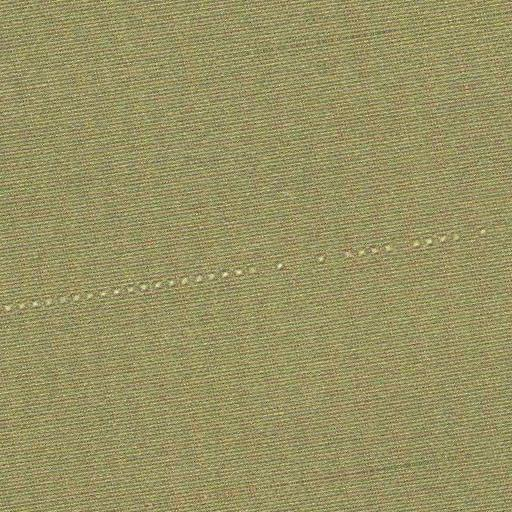slub: (4, 223, 491, 322)
